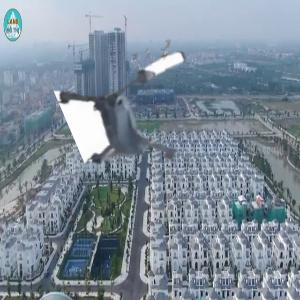drone: (75, 55, 218, 198)
